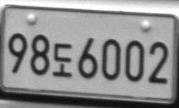0: (100, 37, 121, 81), (124, 39, 145, 82)
2: (147, 40, 168, 84)
6: (77, 36, 99, 80)
8: (29, 33, 51, 75)
9: (7, 32, 28, 74)
도: (52, 42, 73, 78)
